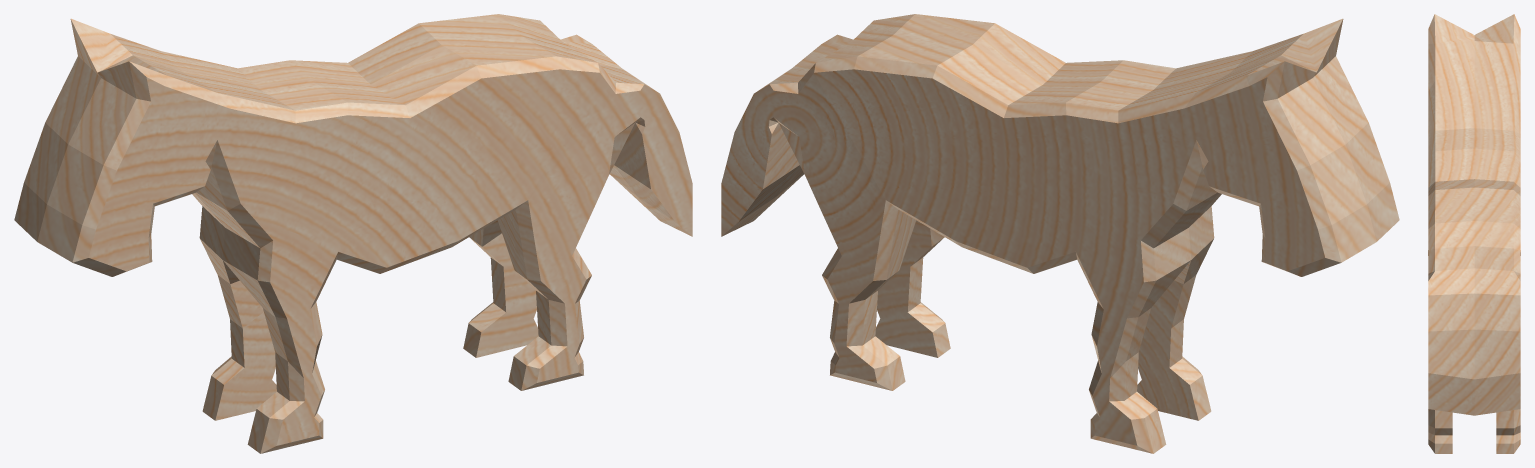
The model's file is toy_horse.fbx.
The picture shows the model from 3 angles, left to right: view 1: azimuth 30°, elevation 25°; view 2: azimuth 150°, elevation 25°; view 3: azimuth 270°, elevation 25°; orthographic projection. The views are drawn at different scales.
Parts seen in each view (by area): view 1: Cube; view 2: Cube; view 3: Cube.
Part boxes in pixels (x1=…): Cube: x1=14, y1=14, x2=692, y2=453; Cube: x1=721, y1=14, x2=1399, y2=453; Cube: x1=1428, y1=14, x2=1520, y2=453.
Bounding box in the file's own units: 121 × 79.34 × 23.04.
